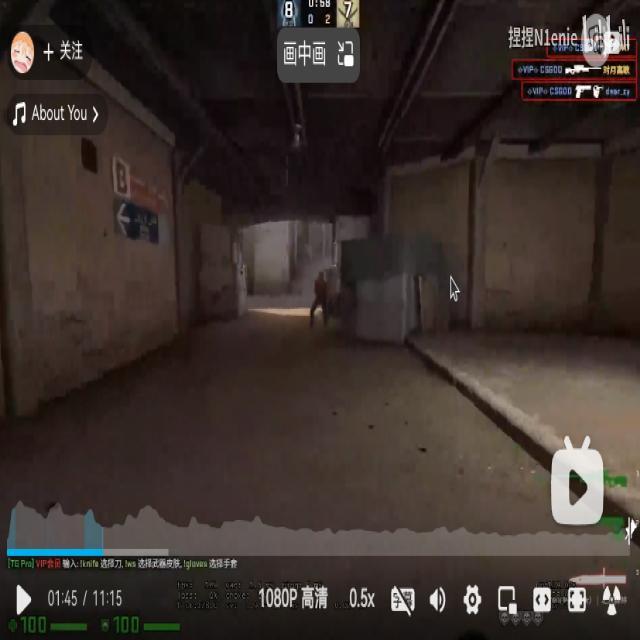person2: (310, 271, 330, 328)
